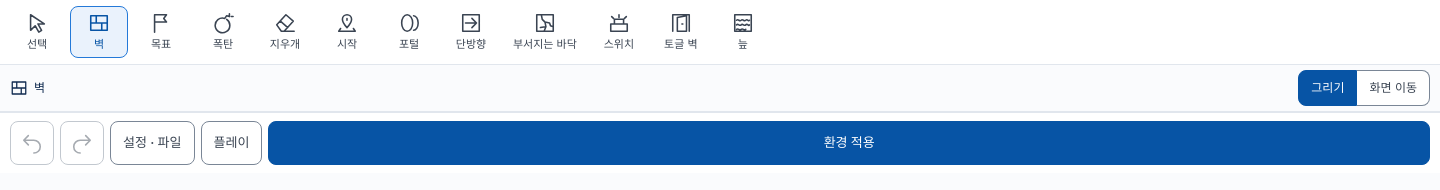
compact (phone) editor › uses one tool row, a status row and an action bar instead of the floating toolbar
Expected: the element with test id "mobile-active-tool" reads "벽", [34,80,45,95]
What coordinates should you click on to do the following:
click the button with test id "env-editor-mode-terrain"
I would click on:
 (743, 32)
Its box is [714,6,772,58].
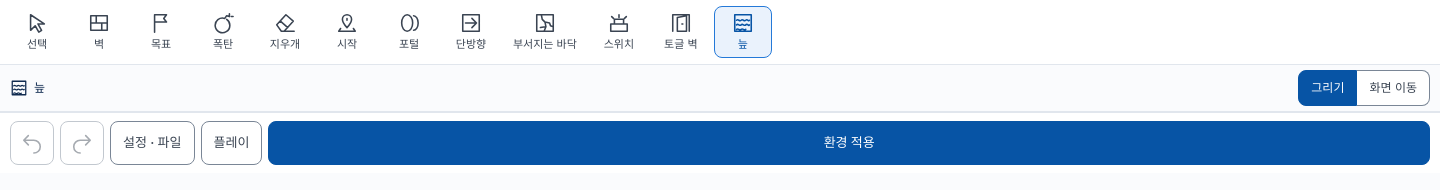
Expected: the button with test id "editor-undo" is shown, [10,121,54,165]
Result: the element with test id "mobile-active-tool" reads "늪" at [34,80,45,95]
